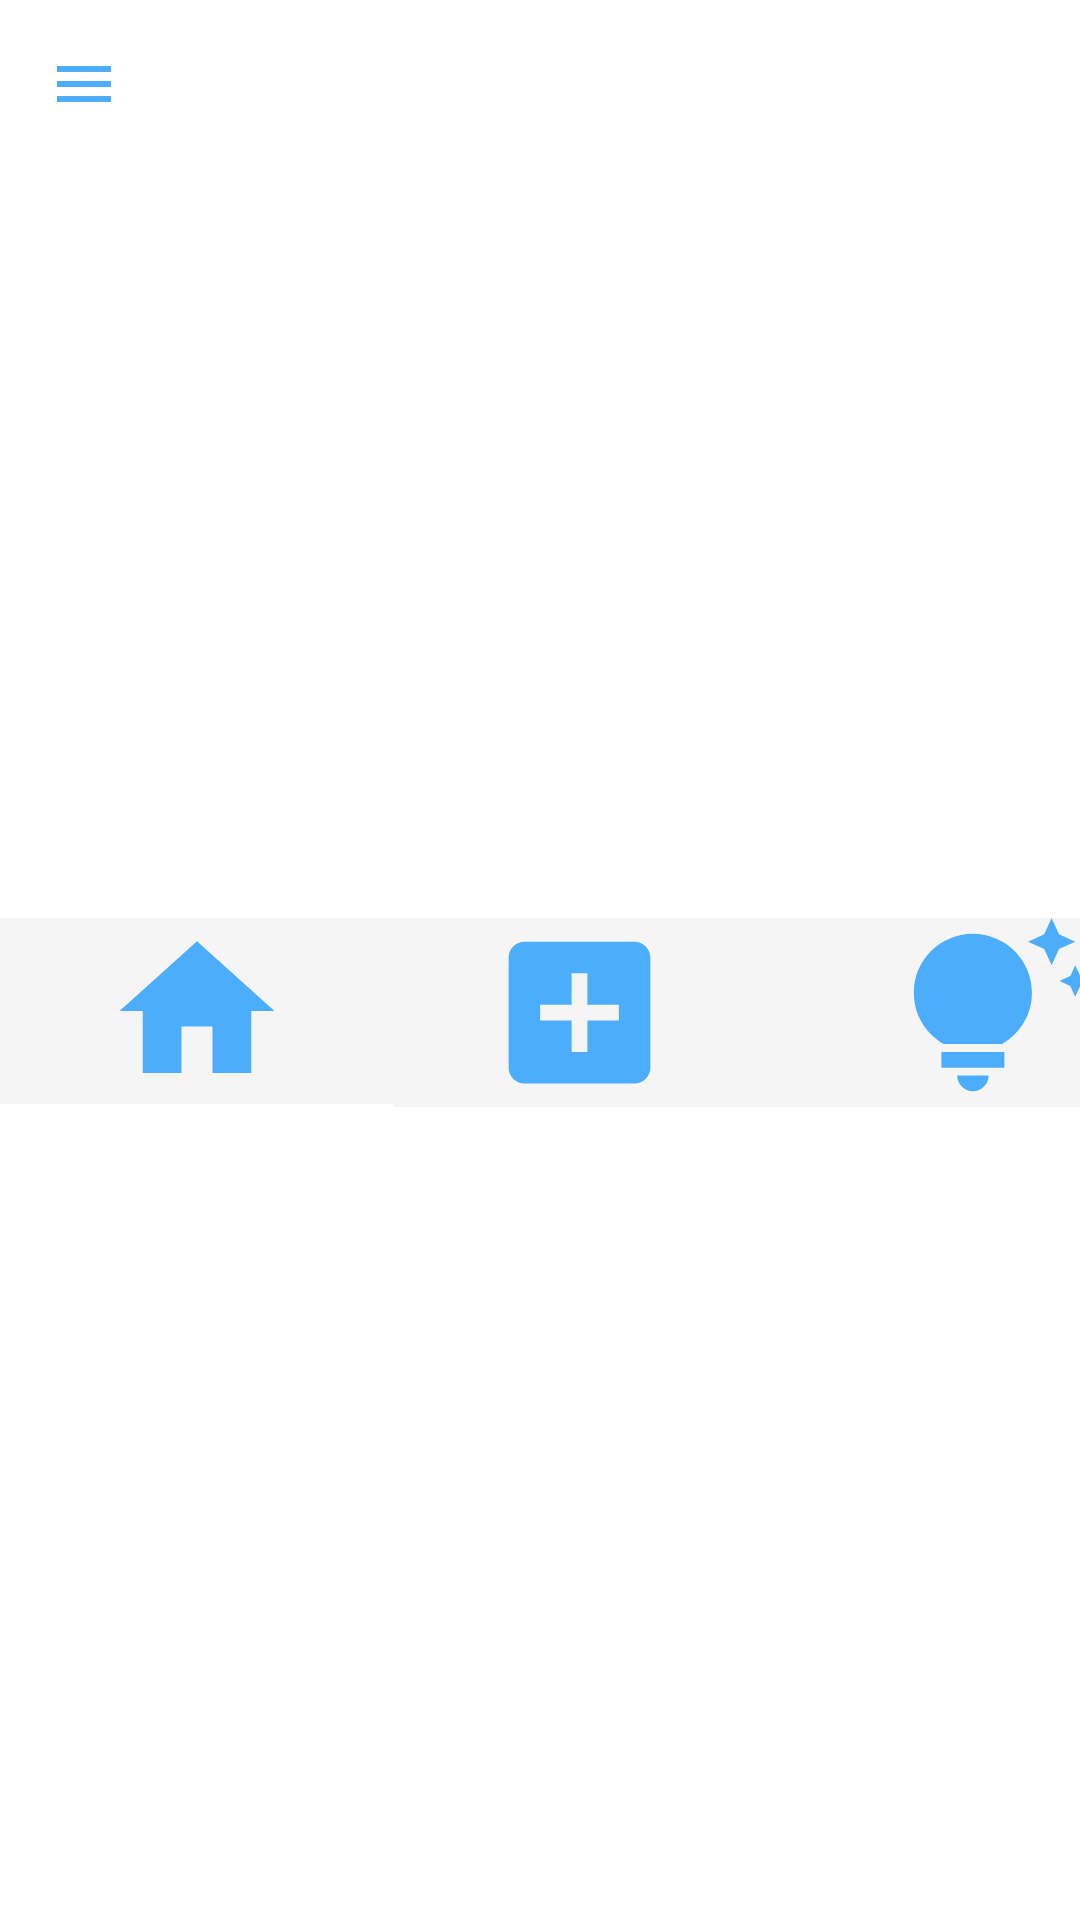

Icons on this 1080px x 1920px Android screen, each with the point to tap as (x=x, y=y):
add: (x=579, y=1012)
home: (x=197, y=1007)
